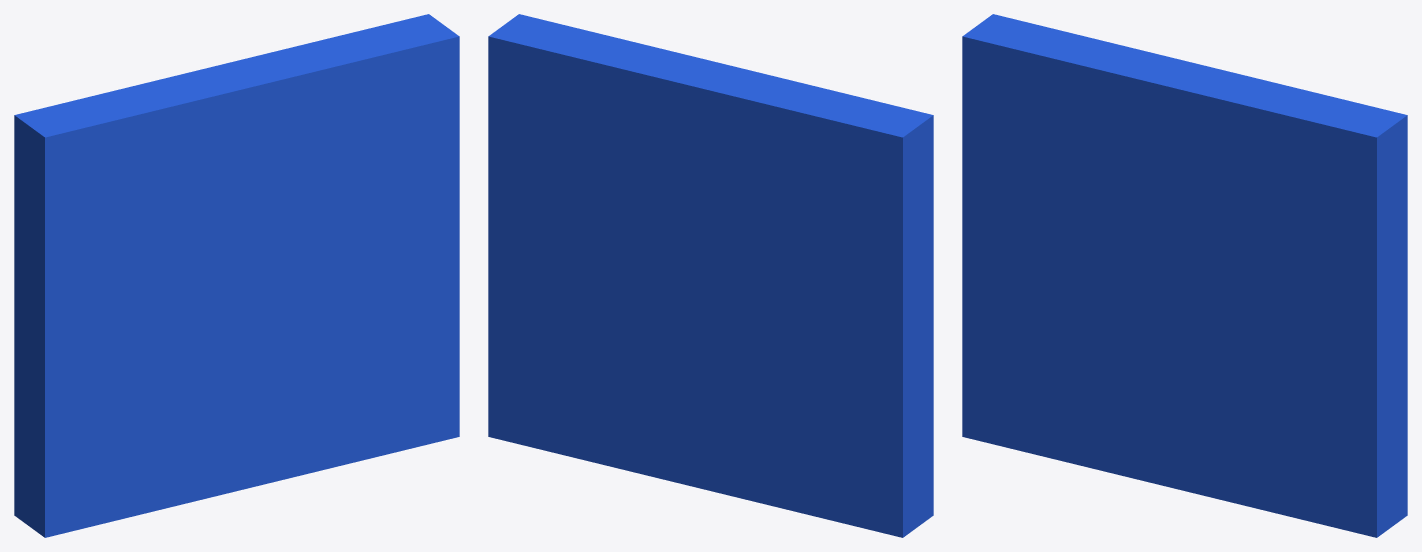
3 views of the same model, side by side, from view 1: azimuth 30°, elevation 25°; view 2: azimuth 150°, elevation 25°; view 3: azimuth 330°, elevation 25° (orthographic).
Visible parts, largest first — view 1: blue; view 2: blue; view 3: blue.
Boxes of the visible parts, box(x1,y1,x2,y2) form: blue: box(14, 14, 459, 537); blue: box(488, 14, 933, 537); blue: box(962, 14, 1407, 537).
Size of the model in its own units: 0.78 by 0.72 by 0.1.
1 material, 1 textured.
